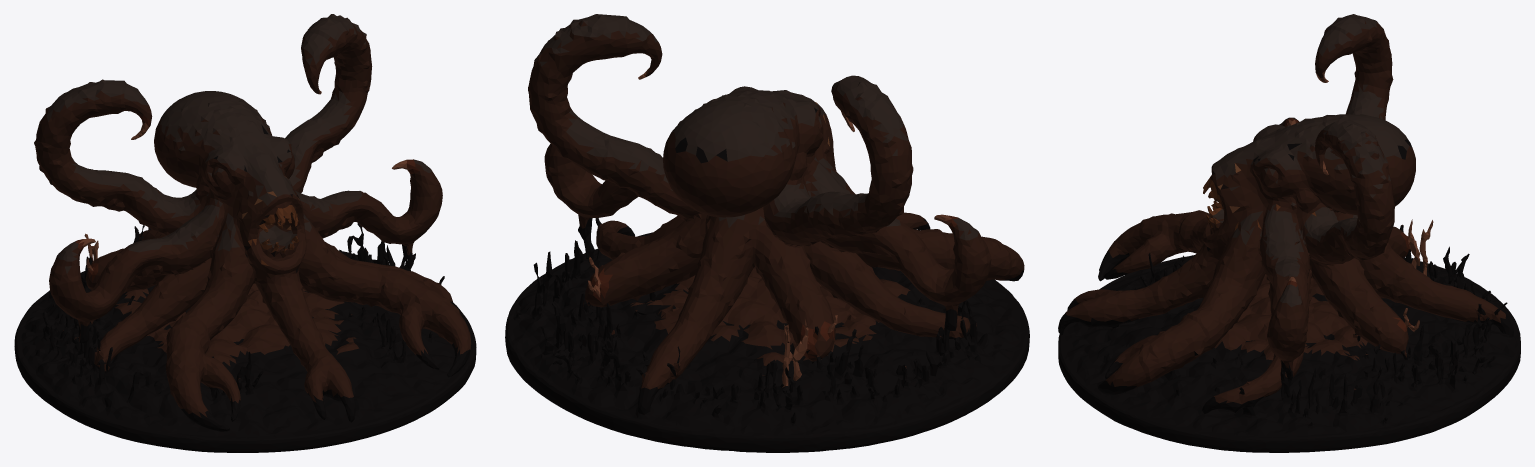
Rendered from ferrao_dos_charcos.glb.
3 views of the same model, side by side, from view 1: azimuth 30°, elevation 25°; view 2: azimuth 150°, elevation 25°; view 3: azimuth 270°, elevation 25° (orthographic). The views are drawn at different scales.
Parts seen in each view (by area): view 1: tmpo7mif9jn.ply; view 2: tmpo7mif9jn.ply; view 3: tmpo7mif9jn.ply.
Boxes of the visible parts, left/top/right/bottom form: tmpo7mif9jn.ply: left=14, top=14, right=476, bottom=452; tmpo7mif9jn.ply: left=505, top=14, right=1029, bottom=452; tmpo7mif9jn.ply: left=1058, top=14, right=1520, bottom=452.
Size of the model in its own units: 1.96 by 1.36 by 1.96.
